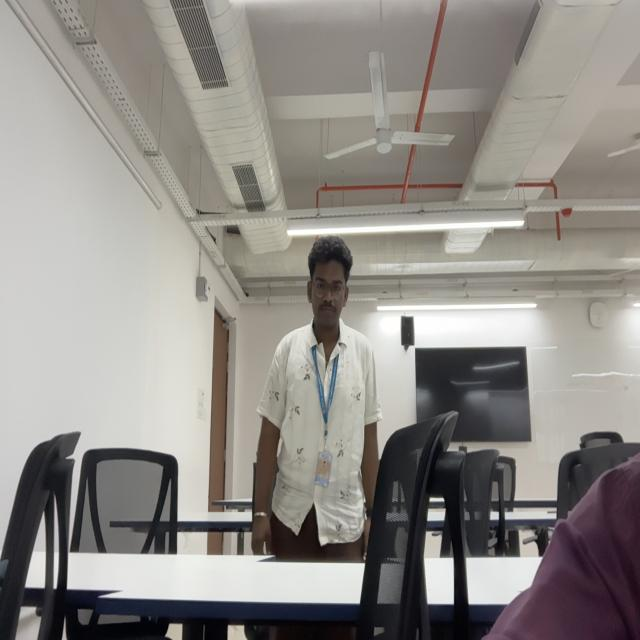sai: (308, 234, 349, 329)
